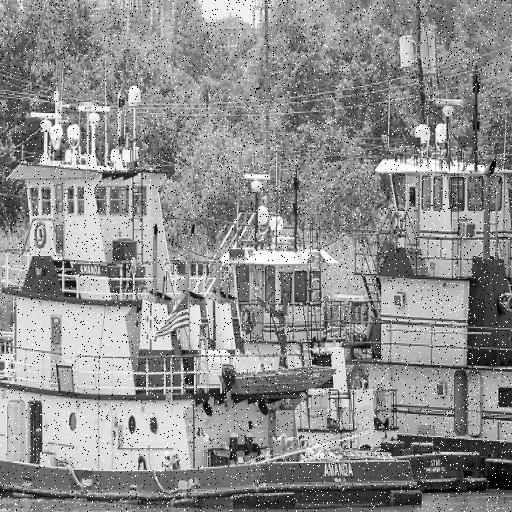tugboat: (1, 97, 423, 512)
